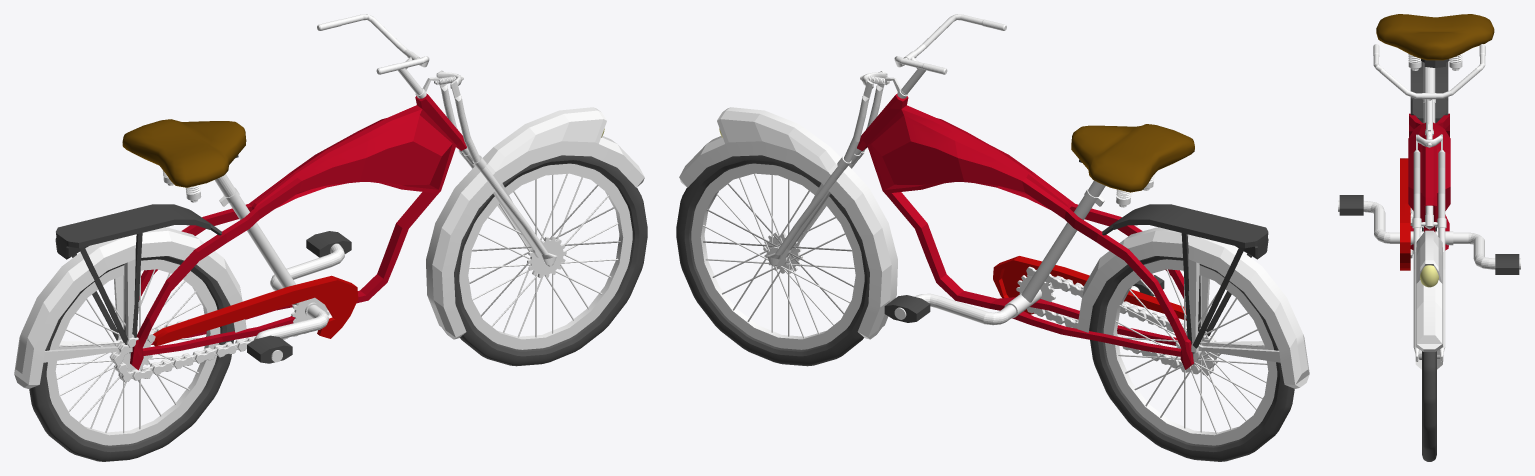
Rendered from bike fin.fbx.
3 renders of one model, left to right at view 1: azimuth 30°, elevation 25°; view 2: azimuth 150°, elevation 25°; view 3: azimuth 270°, elevation 25°, orthographic. The views are drawn at different scales.
Visible parts, largest first — view 1: polySurface304, polySurface244, polySurface294, polySurface324, polySurface326, polySurface188, polySurface351, polySurface183, polySurface303, polySurface175, polySurface220, polySurface257 (+7 smaller); view 2: polySurface304, polySurface244, polySurface294, polySurface324, polySurface351, polySurface326, polySurface188, polySurface183, polySurface175, polySurface303, polySurface220, polySurface264 (+4 smaller); view 3: polySurface188, polySurface244, polySurface304, polySurface324, polySurface175, polySurface303, polySurface264, polySurface257, polySurface295, polySurface290, polySurface270, polySurface271 (+6 smaller).
Boxes of the visible parts, box(x1,y1,x2,y2) form: polySurface304: box(130, 93, 466, 370); polySurface244: box(426, 107, 644, 339); polySurface294: box(14, 227, 246, 388); polySurface324: box(454, 155, 647, 366); polySurface326: box(459, 163, 632, 349); polySurface188: box(122, 119, 246, 187); polySurface351: box(29, 256, 234, 461); polySurface183: box(46, 259, 220, 445); polySurface303: box(153, 275, 358, 346); polySurface175: box(55, 204, 221, 259); polySurface220: box(214, 174, 295, 287); polySurface257: box(450, 81, 556, 266); polySurface304: box(857, 93, 1193, 369); polySurface244: box(679, 107, 897, 339); polySurface294: box(1077, 227, 1309, 388); polySurface324: box(676, 155, 869, 366); polySurface351: box(1089, 256, 1294, 461); polySurface326: box(691, 163, 864, 349); polySurface188: box(1071, 124, 1194, 192); polySurface183: box(1103, 259, 1277, 445); polySurface175: box(1102, 204, 1268, 259); polySurface303: box(993, 256, 1186, 320); polySurface220: box(1021, 180, 1105, 302); polySurface264: box(767, 80, 873, 266); polySurface188: box(1376, 14, 1494, 60); polySurface244: box(1415, 230, 1443, 369); polySurface304: box(1408, 113, 1450, 250); polySurface324: box(1422, 351, 1436, 461); polySurface175: box(1410, 61, 1448, 122); polySurface303: box(1400, 158, 1410, 270); polySurface264: box(1438, 134, 1445, 361); polySurface257: box(1413, 134, 1420, 361); polySurface295: box(1453, 232, 1520, 269); polySurface290: box(1338, 200, 1399, 243); polySurface270: box(1495, 254, 1519, 274); polySurface271: box(1339, 195, 1363, 215).
Size of the model in its own units: 7.77 by 4.3 by 2.2.
